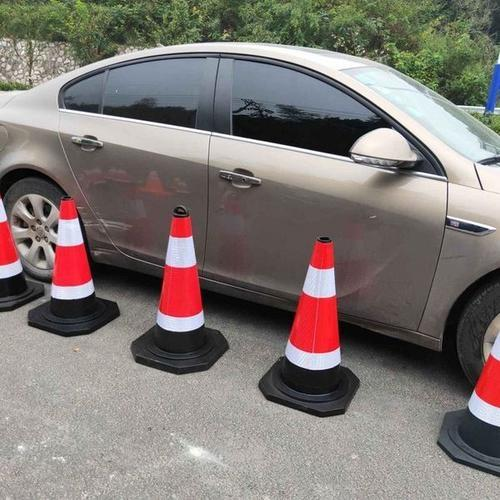cone_barrel: (262, 237, 354, 415), (138, 204, 218, 366), (38, 193, 108, 330), (447, 328, 498, 463)
